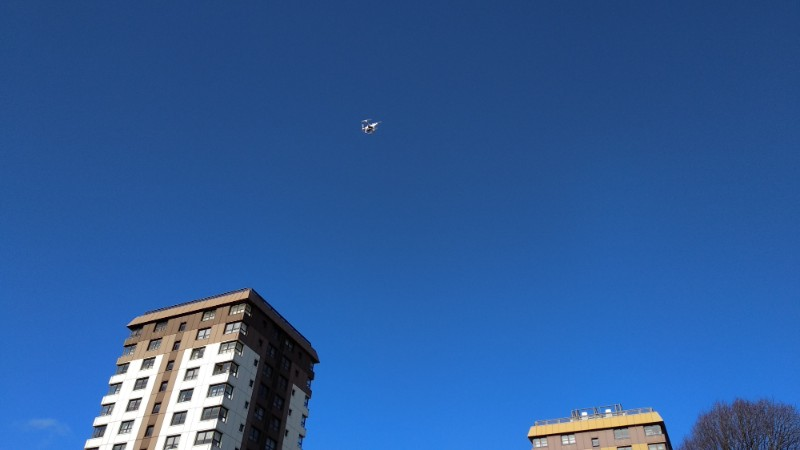drone: (358, 116, 382, 137)
